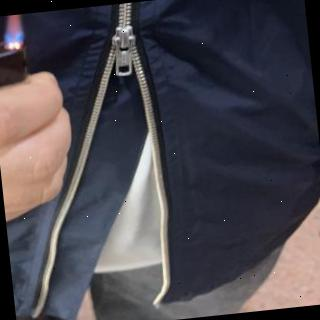fire: (1, 14, 26, 42)
